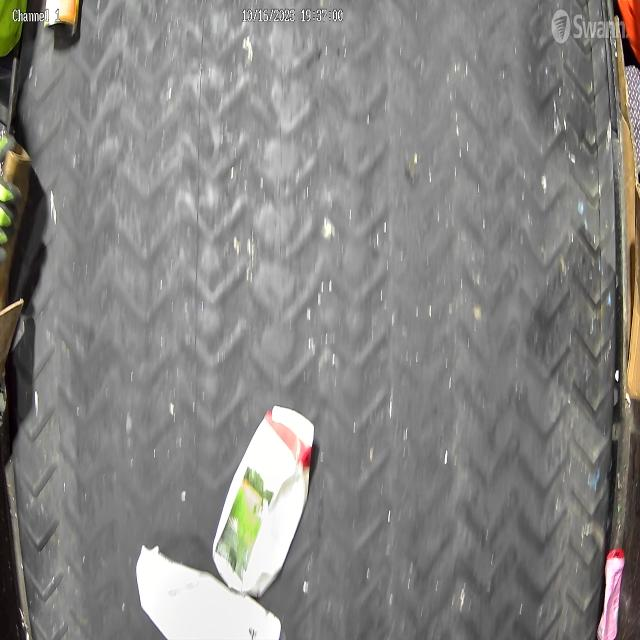non_white_jug: (212, 403, 316, 600)
